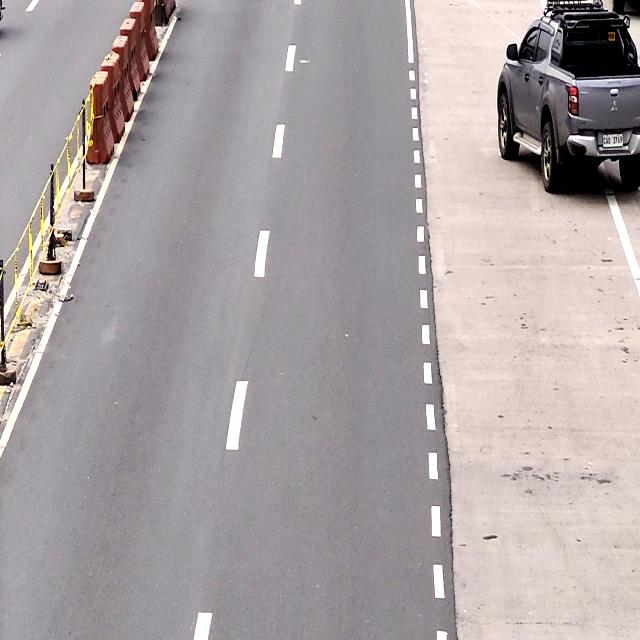Car: (497, 1, 638, 171)
License-Plate: (601, 132, 624, 146)
